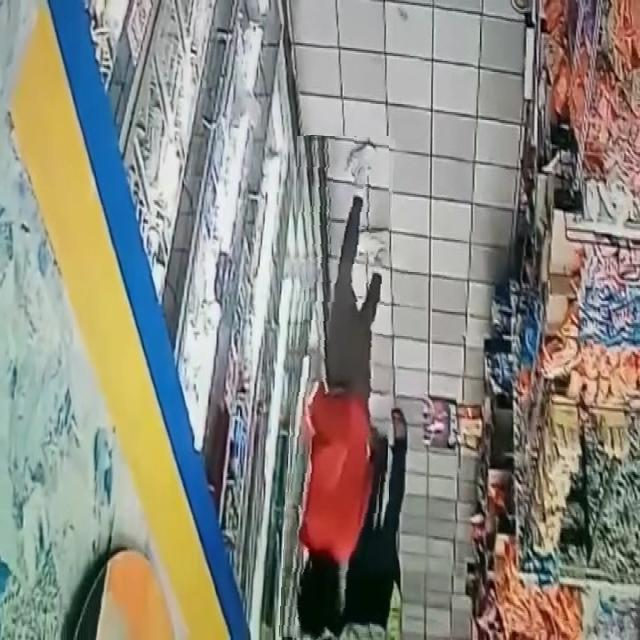Normal: (286, 136, 389, 640)
